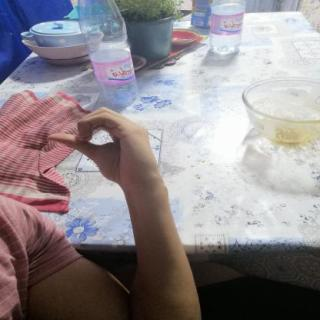WAW: (35, 100, 168, 192)
